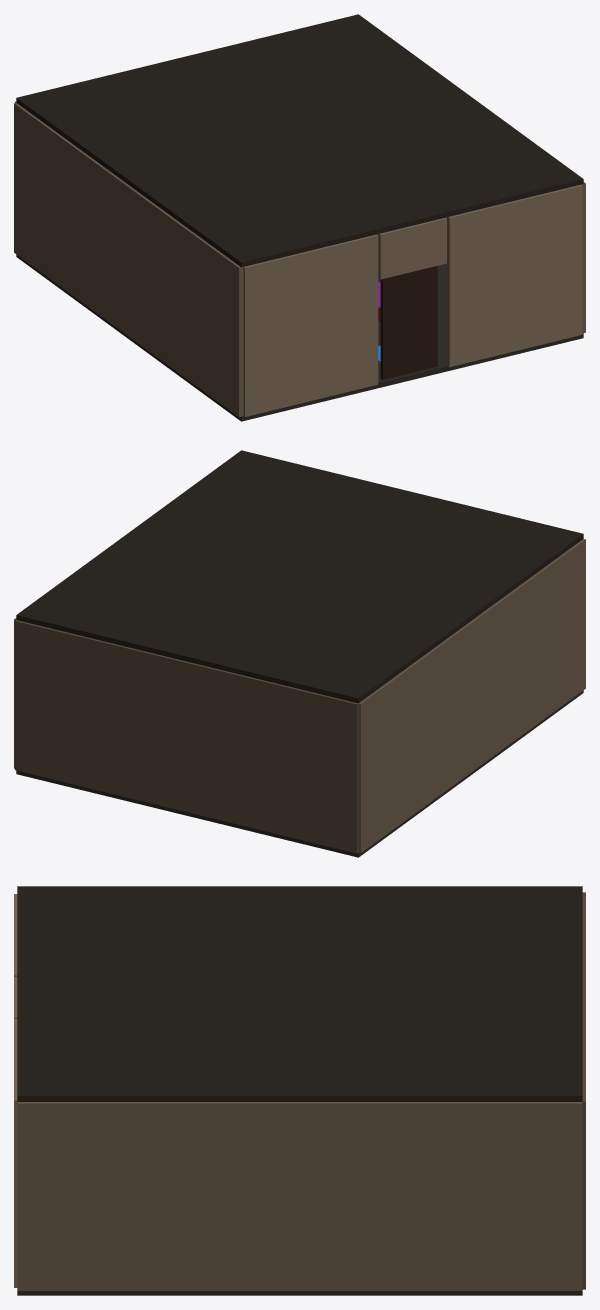
The model's file is sala_santos_secos_blockout.glb.
3 views of the same model, one above another, from view 1: azimuth 30°, elevation 25°; view 2: azimuth 150°, elevation 25°; view 3: azimuth 270°, elevation 25° (orthographic). The views are drawn at different scales.
Visible parts, largest first — view 1: ritual_ceiling, ritual_wall_left, ritual_front_wall_right, ritual_front_wall_left, ritual_entry_door_01, ritual_floor, ritual_front_door_top, ritual_wall_right; view 2: ritual_ceiling, ritual_wall_back, ritual_wall_left, ritual_floor; view 3: ritual_ceiling, ritual_wall_right, ritual_floor, ritual_wall_back, ritual_front_wall_right.
Part boxes in pixels (<box>): ritual_ceiling: <box>16,14,583,267</box>; ritual_wall_left: <box>14,103,243,417</box>; ritual_front_wall_right: <box>445,184,582,367</box>; ritual_front_wall_left: <box>243,234,378,416</box>; ritual_entry_door_01: <box>380,266,437,379</box>; ritual_floor: <box>16,254,583,421</box>; ritual_front_door_top: <box>377,217,446,279</box>; ritual_wall_right: <box>581,182,585,333</box>; ritual_ceiling: <box>16,450,583,703</box>; ritual_wall_back: <box>15,620,358,853</box>; ritual_wall_left: <box>358,539,585,853</box>; ritual_floor: <box>16,690,583,857</box>; ritual_ceiling: <box>17,886,582,1101</box>; ritual_wall_right: <box>17,1102,582,1290</box>; ritual_floor: <box>17,1291,582,1295</box>; ritual_wall_back: <box>582,892,585,1289</box>; ritual_front_wall_right: <box>14,1019,17,1287</box>.
Bounding box in the file's own units: 7.3 × 3.38 × 8.3.
